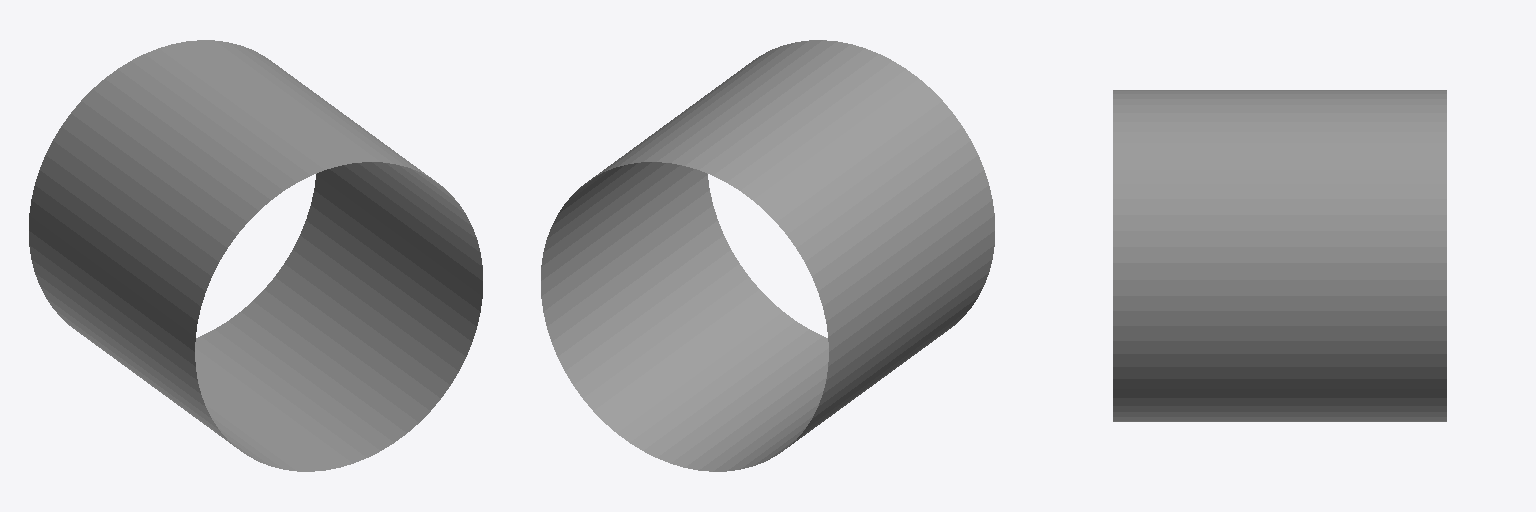
The model's file is tunnel2.obj.
3 renders of one model, left to right at view 1: azimuth 30°, elevation 25°; view 2: azimuth 150°, elevation 25°; view 3: azimuth 270°, elevation 25°, orthographic.
Size of the model in its own units: 4.78 by 4.78 by 4.78.